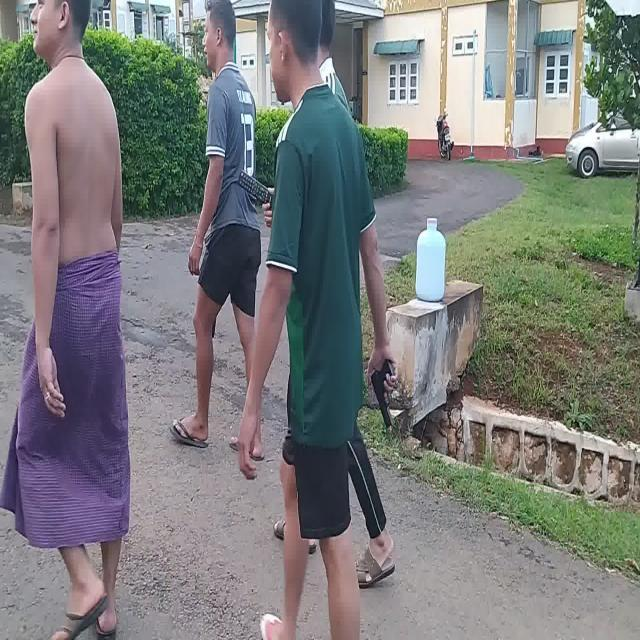gun: (373, 360, 395, 430)
